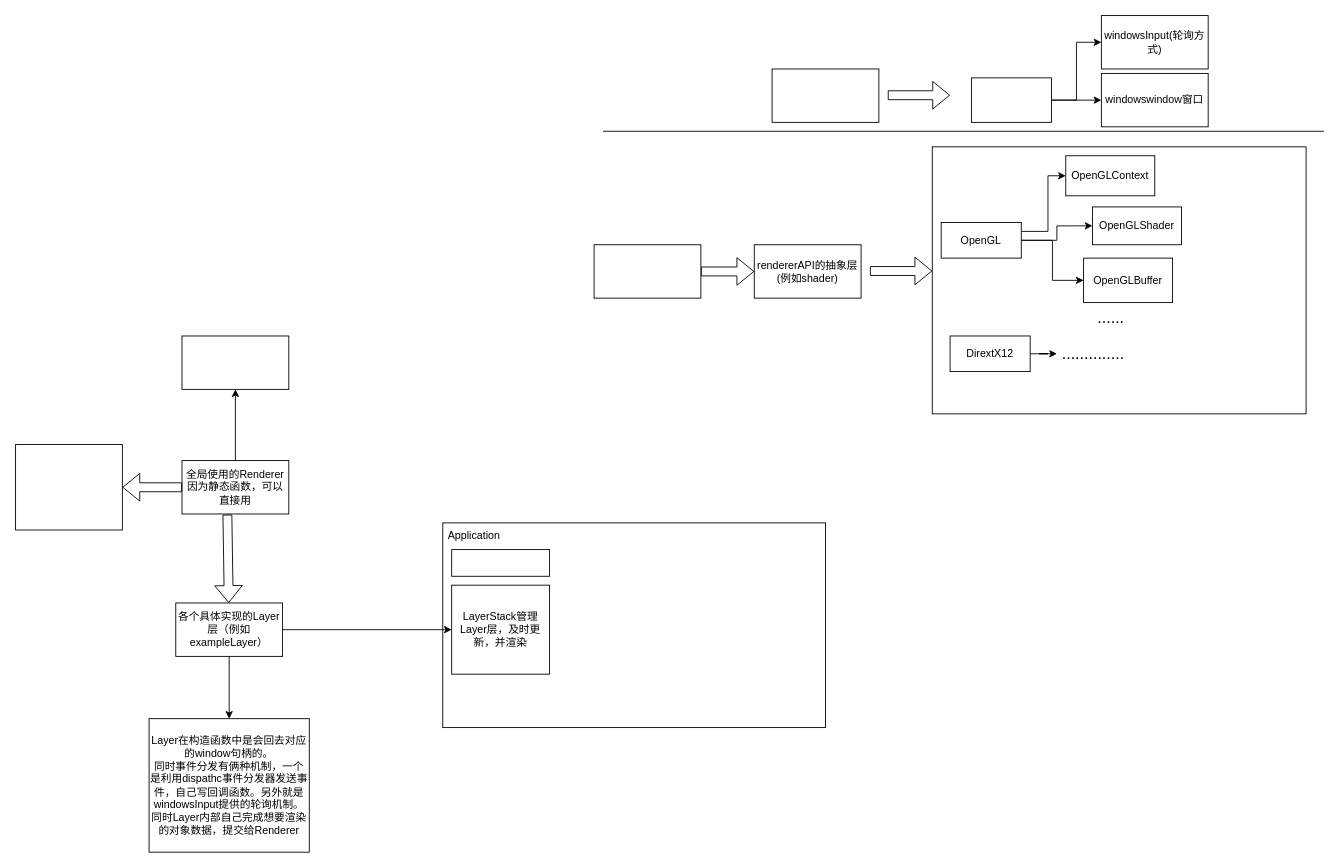
The diagram is 1340 pixels wide and 868 high, and some of its shapes have lost their labels. Here are the shapes that lost their labels. From the top down, the box of each, then its label:
(771, 68, 879, 122): window（平台层的抽象）
(971, 77, 1052, 122): glfwwindow窗口
(593, 244, 701, 298): Renderer（根据渲染提交的工作流进行抽象）
(181, 335, 289, 389): Renderer大体是个文件夹里面有很多抽象实现，而且还没分类
(15, 444, 122, 530): 已经为Layer层提供了渲染流，对于Layer只要提交渲染数据即可
(451, 549, 550, 576): window
